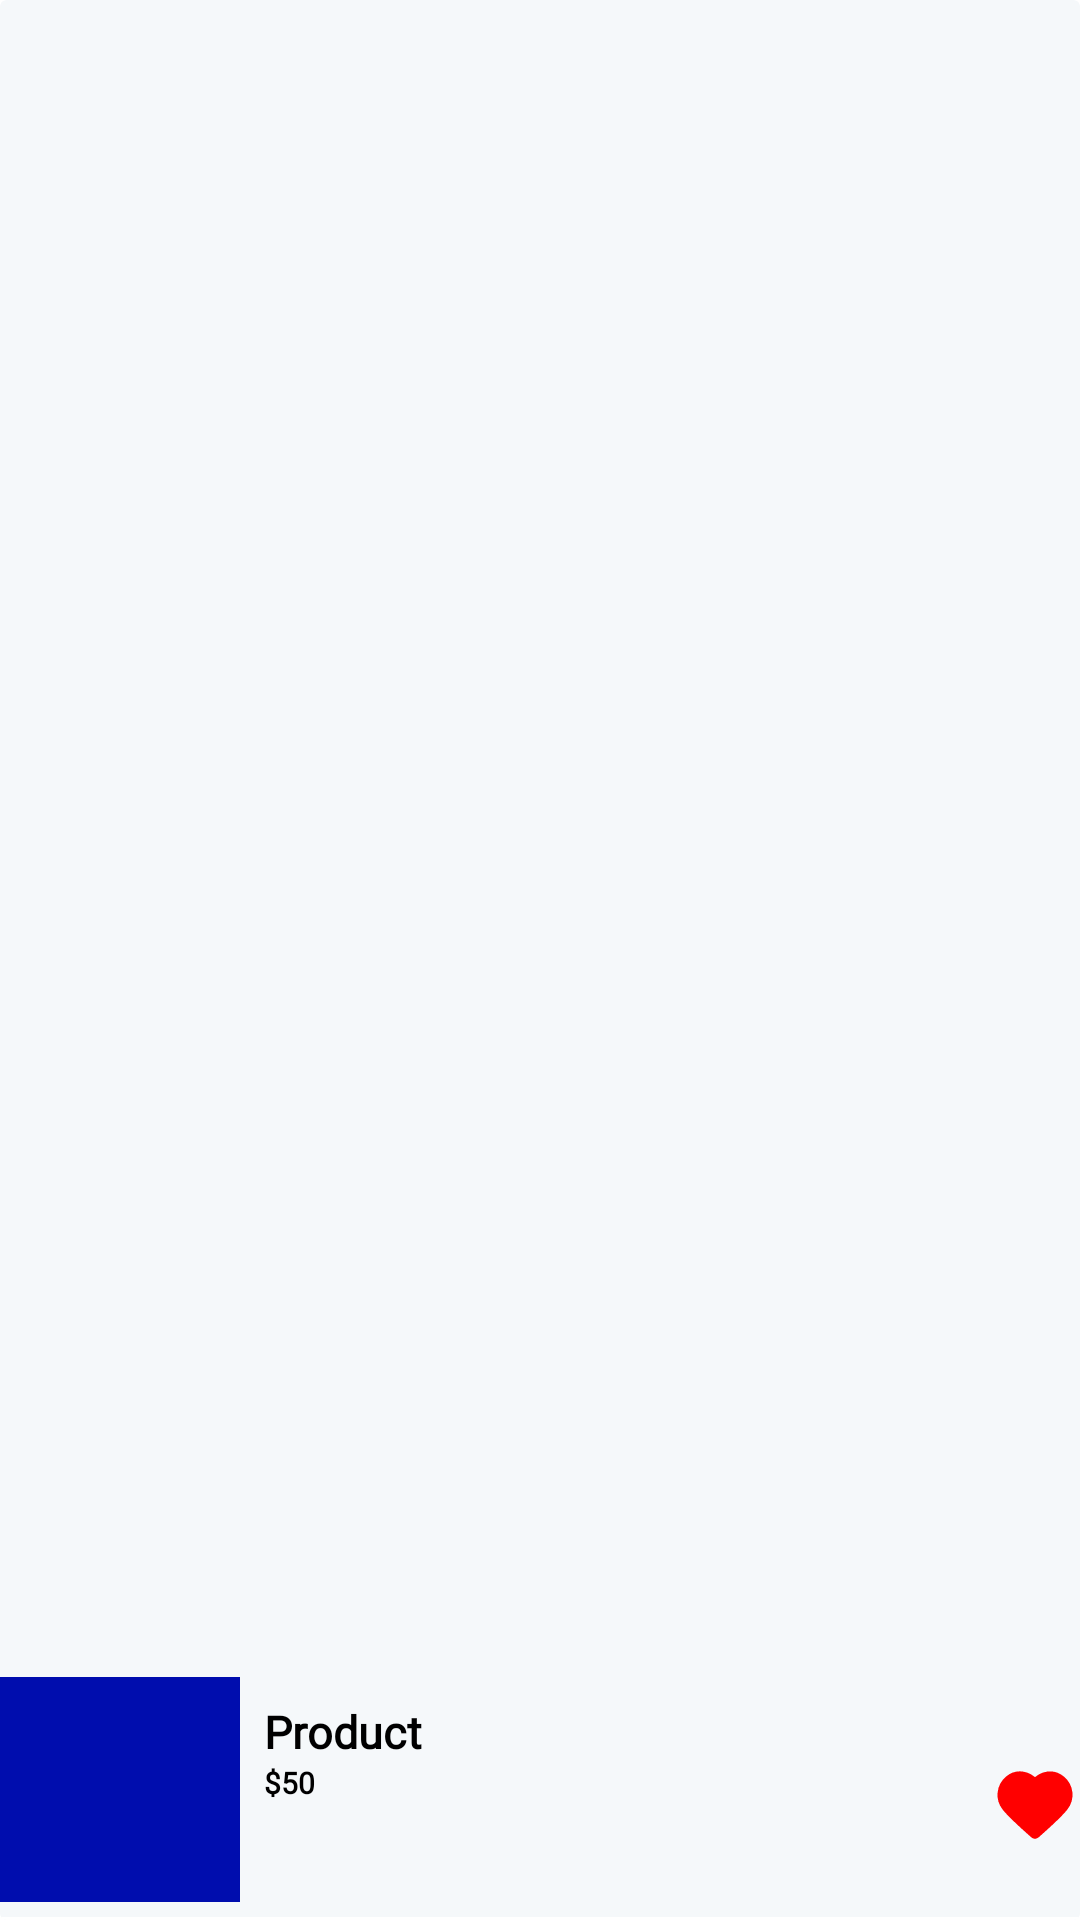

Icon bounding boxes for this 1080x1920 phone screenshot, format (x1, y1, x2, y2):
heart: (997, 1771, 1073, 1839)
